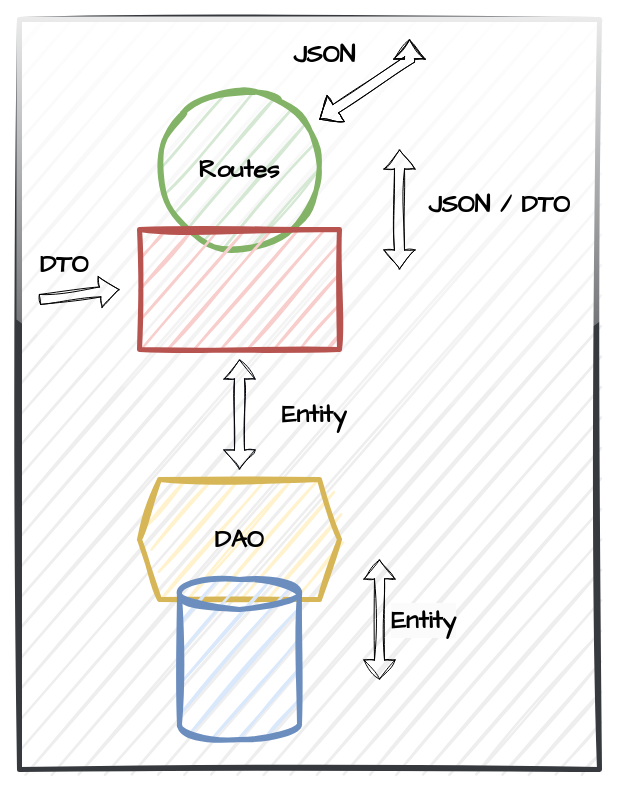
Some shapes in this 619 by 789 pixel diagram are drawn without their labels. Each missing label, with the centre of its shape:
"Controller" belongs at (239,289).
"DB" belongs at (239,659).
